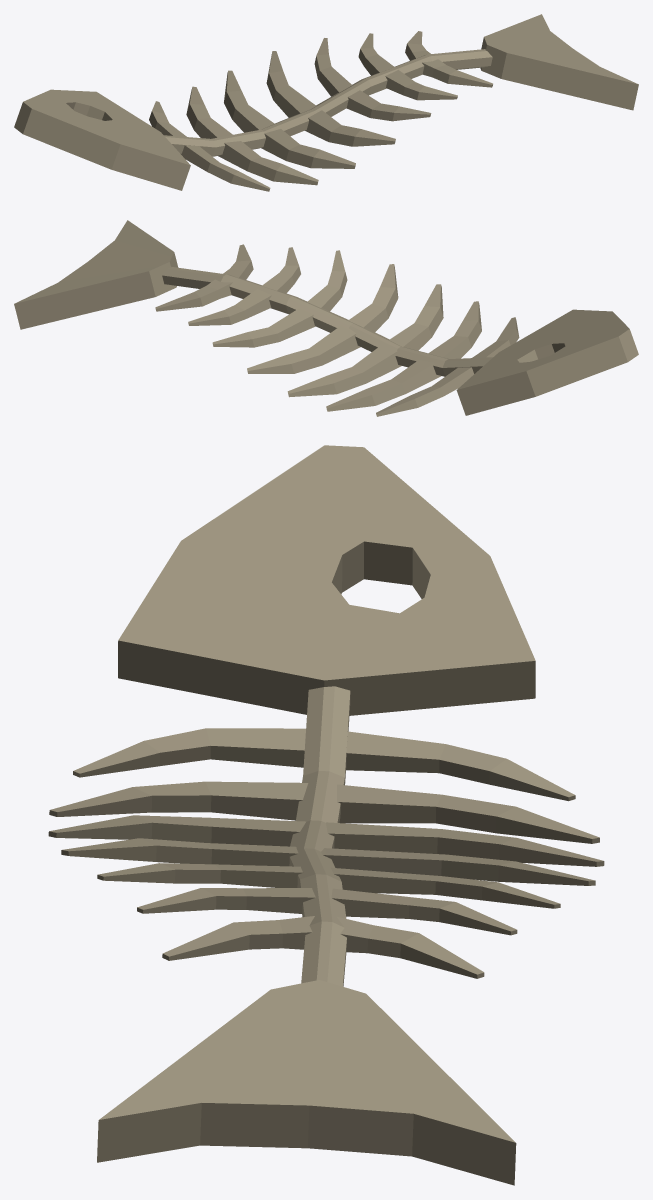
File: FishBone.glb
3 renders of one model, top to bottom at view 1: azimuth 30°, elevation 25°; view 2: azimuth 150°, elevation 25°; view 3: azimuth 270°, elevation 25°, orthographic. The views are drawn at different scales.
Visible parts, largest first — view 1: FishBone; view 2: FishBone; view 3: FishBone.
Part boxes in pixels (x1,y1,x2,y2): FishBone: [14, 14, 638, 191]; FishBone: [14, 220, 638, 416]; FishBone: [48, 445, 604, 1185].
Bounding box in the file's own units: 1.95 × 0.3324 × 0.8296.
